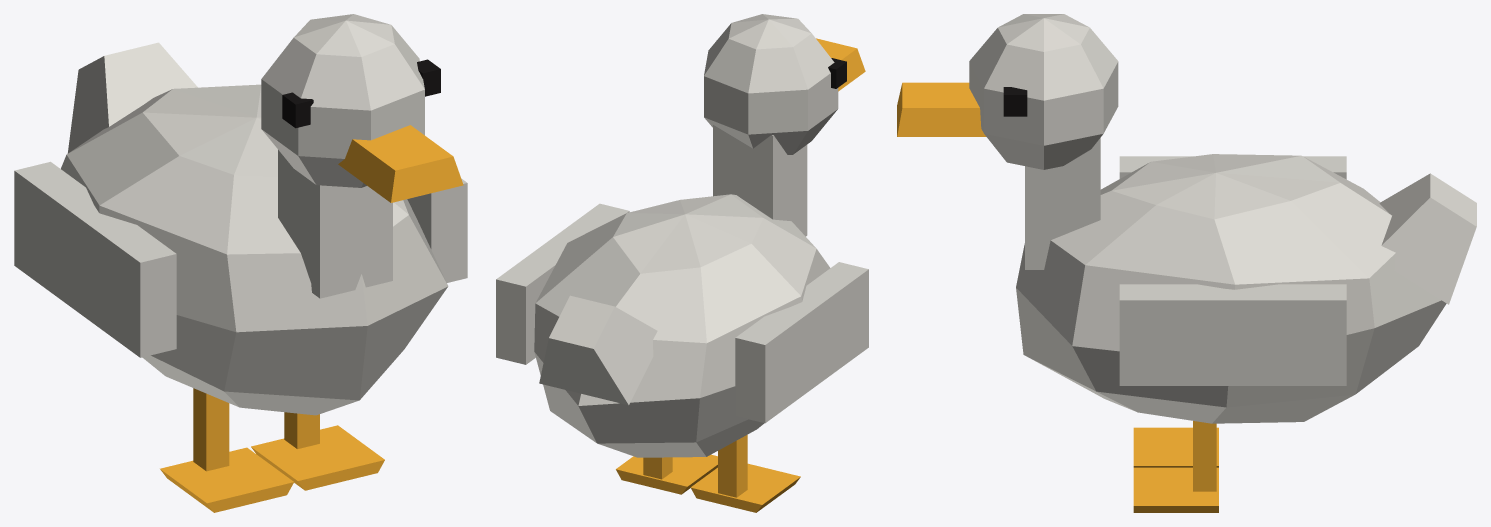
Rendered from duck.obj.
The picture shows the model from 3 angles, left to right: view 1: azimuth 30°, elevation 25°; view 2: azimuth 150°, elevation 25°; view 3: azimuth 270°, elevation 25°; orthographic projection. The views are drawn at different scales.
Parts seen in each view (by area): view 1: body, head, wing_l, leg_l, leg_r, wing_r; view 2: body, head, wing_l, wing_r, leg_l, leg_r; view 3: body, head, wing_r, leg_r, leg_l, wing_l.
Boxes of the visible parts, x1,y1,x2,y2 form: body: [61, 42, 448, 415]; head: [261, 14, 463, 298]; wing_l: [14, 161, 176, 357]; leg_l: [160, 388, 293, 512]; leg_r: [251, 412, 384, 490]; wing_r: [407, 178, 467, 282]; body: [534, 194, 830, 457]; head: [704, 14, 865, 236]; wing_l: [735, 262, 868, 423]; wing_r: [496, 203, 629, 364]; leg_l: [690, 434, 800, 512]; leg_r: [616, 454, 717, 494]; body: [1016, 154, 1476, 423]; head: [897, 14, 1118, 269]; wing_r: [1119, 284, 1346, 385]; leg_r: [1133, 421, 1218, 512]; leg_l: [1133, 427, 1218, 467]; wing_l: [1119, 156, 1346, 179].
Bounding box in the file's own units: 0.36 × 0.535 × 0.6125.
